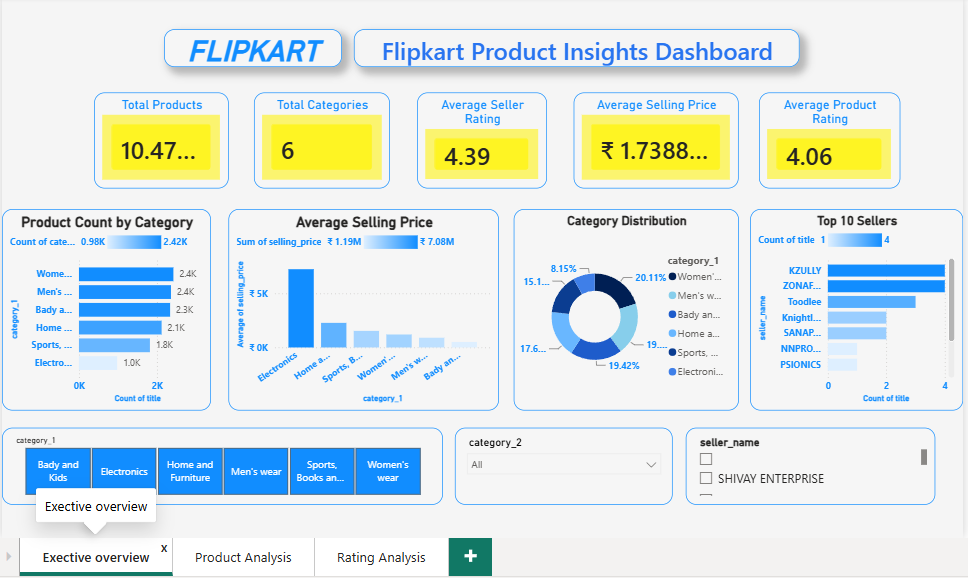

The dashboard page shown, as its layout file describes it:
{"tool":"powerbi","page":{"name":"Page 1","canvas":[1280,720],"ordinal":0},"visuals":[{"type":"textbox","title":"Flipkart Product Insights Dashboard","box":[468,43.6,593.9,50.3],"z":0},{"type":"cardVisual","title":"Total Products","fields":{"Data":["Count(dataset.title)"]},"box":[122.5,127.5,179.5,127.5],"z":1000},{"type":"cardVisual","title":"Total Categories","fields":{"Data":["Count(dataset.category_1)"]},"box":[335.5,127.5,181.2,127.5],"z":2000},{"type":"cardVisual","title":" Average Seller Rating","fields":{"Data":["Avg(dataset.seller_rating)"]},"box":[553.6,127.5,172.8,127.5],"z":3000},{"type":"cardVisual","title":"Average Selling Price","fields":{"Data":["Avg(dataset.selling_price)"]},"box":[761.6,127.5,219.8,127.5],"z":4000},{"type":"cardVisual","title":" Average Product Rating","fields":{"Data":["Avg(dataset.product_rating)"]},"box":[1008.2,127.5,187.9,127.5],"z":5000},{"type":"clusteredBarChart","title":"Product Count by Category","fields":{"Category":["dataset.category_1"],"Y":["CountNonNull(dataset.title)"]},"box":[0,281.8,278.5,268.4],"z":6000},{"type":"columnChart","title":"Average Selling Price","fields":{"Y":["Avg(dataset.selling_price)"],"Category":["dataset.category_1"]},"box":[302,281.8,360.7,268.4],"z":7000},{"type":"donutChart","title":"Category Distribution","fields":{"Category":["dataset.category_1"],"Y":["CountNonNull(dataset.title)"]},"box":[681.1,281.8,300.3,268.4],"z":8000},{"type":"clusteredBarChart","title":"Top 10 Sellers","fields":{"Y":["CountNonNull(dataset.title)"],"Category":["dataset.seller_name"]},"box":[996.5,281.8,283.5,268.4],"z":9000},{"type":"slicer","fields":{"Values":["dataset.category_1"]},"box":[0,573.7,587.2,102.3],"z":10000},{"type":"slicer","fields":{"Values":["dataset.category_2"]},"box":[603.9,573.7,290.2,102.3],"z":11000},{"type":"slicer","fields":{"Values":["dataset.seller_name"]},"box":[910.9,573.7,332.2,102.3],"z":12000},{"type":"textbox","title":"FLIPKART","box":[216.4,43.6,236.5,50.3],"z":13000}]}

Visuals, with their boxes on the page's 1280x720 design canvas (x1, y1, x2, y2). These are canvas units, not pixel positions in the 968x578 screenshot, which may show the page scaled, cropped or inside an application window:
"Flipkart Product Insights Dashboard" textbox: left=468, top=44, right=1062, bottom=94
"Total Products" cardVisual: left=122, top=128, right=302, bottom=255
"Total Categories" cardVisual: left=336, top=128, right=517, bottom=255
" Average Seller Rating" cardVisual: left=554, top=128, right=726, bottom=255
"Average Selling Price" cardVisual: left=762, top=128, right=981, bottom=255
" Average Product Rating" cardVisual: left=1008, top=128, right=1196, bottom=255
"Product Count by Category" clusteredBarChart: left=0, top=282, right=278, bottom=550
"Average Selling Price" columnChart: left=302, top=282, right=663, bottom=550
"Category Distribution" donutChart: left=681, top=282, right=981, bottom=550
"Top 10 Sellers" clusteredBarChart: left=996, top=282, right=1280, bottom=550
slicer - dataset.category_1: left=0, top=574, right=587, bottom=676
slicer - dataset.category_2: left=604, top=574, right=894, bottom=676
slicer - dataset.seller_name: left=911, top=574, right=1243, bottom=676
"FLIPKART" textbox: left=216, top=44, right=453, bottom=94
